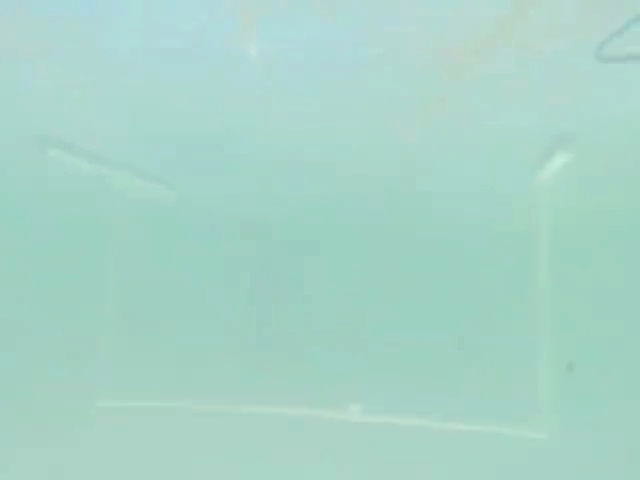gate: (26, 133, 586, 445)
